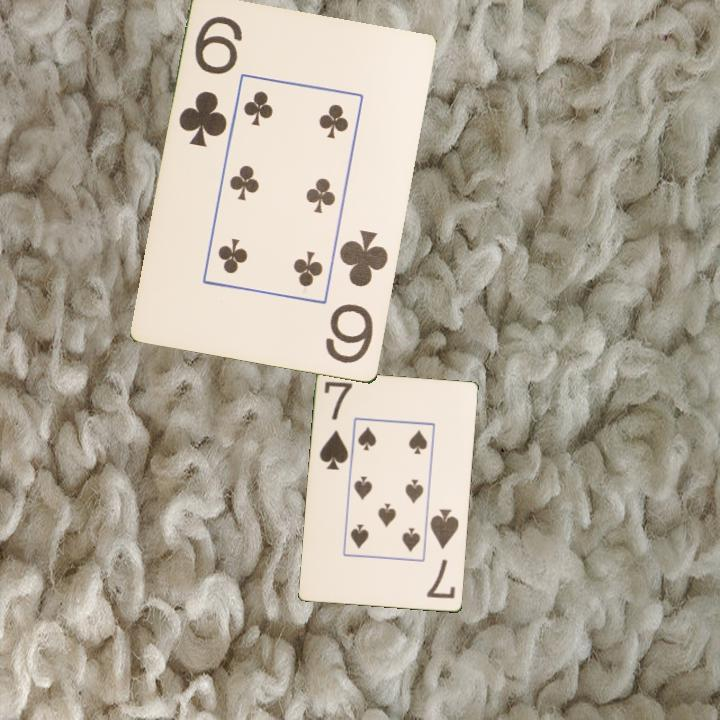6c: (322, 226, 392, 367), (175, 12, 246, 150)
7s: (316, 378, 356, 473), (423, 505, 462, 602)
